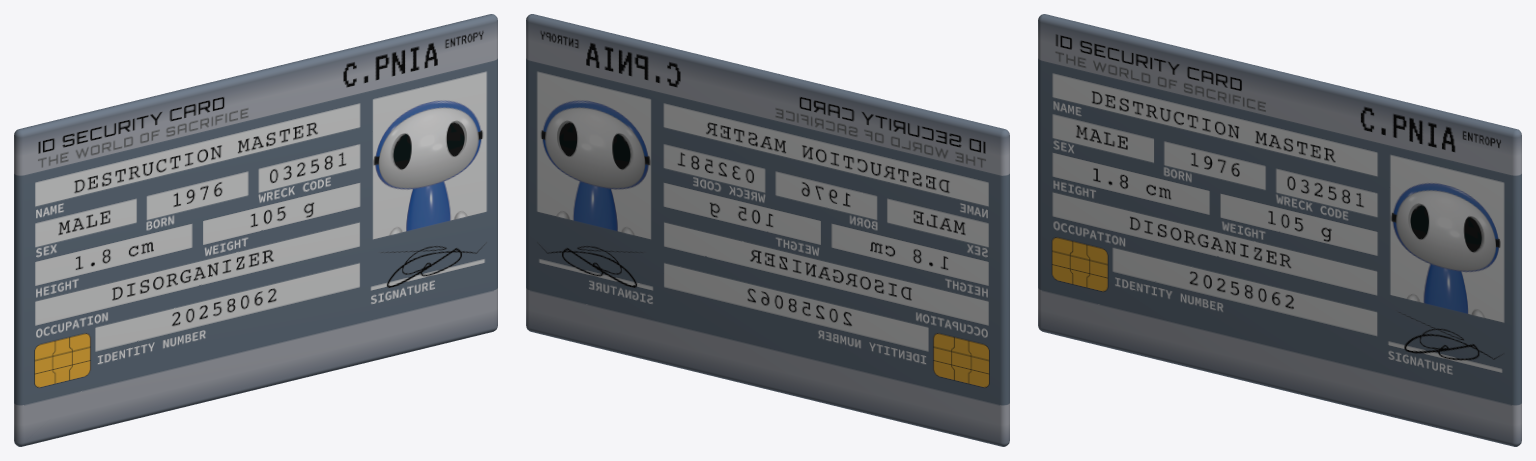
File: entropy.gltf
The picture shows the model from 3 angles, left to right: view 1: azimuth 30°, elevation 25°; view 2: azimuth 150°, elevation 25°; view 3: azimuth 330°, elevation 25°; orthographic projection.
Visible parts, largest first — view 1: Cube; view 2: Cube; view 3: Cube.
Part boxes in pixels (x1,y1,x2,y2): Cube: [14, 14, 497, 446]; Cube: [526, 14, 1009, 446]; Cube: [1038, 14, 1521, 446].
Bounding box in the file's own units: 0.086 × 0.054 × 0.00202.
Materials: 1 (1 with a texture image).
